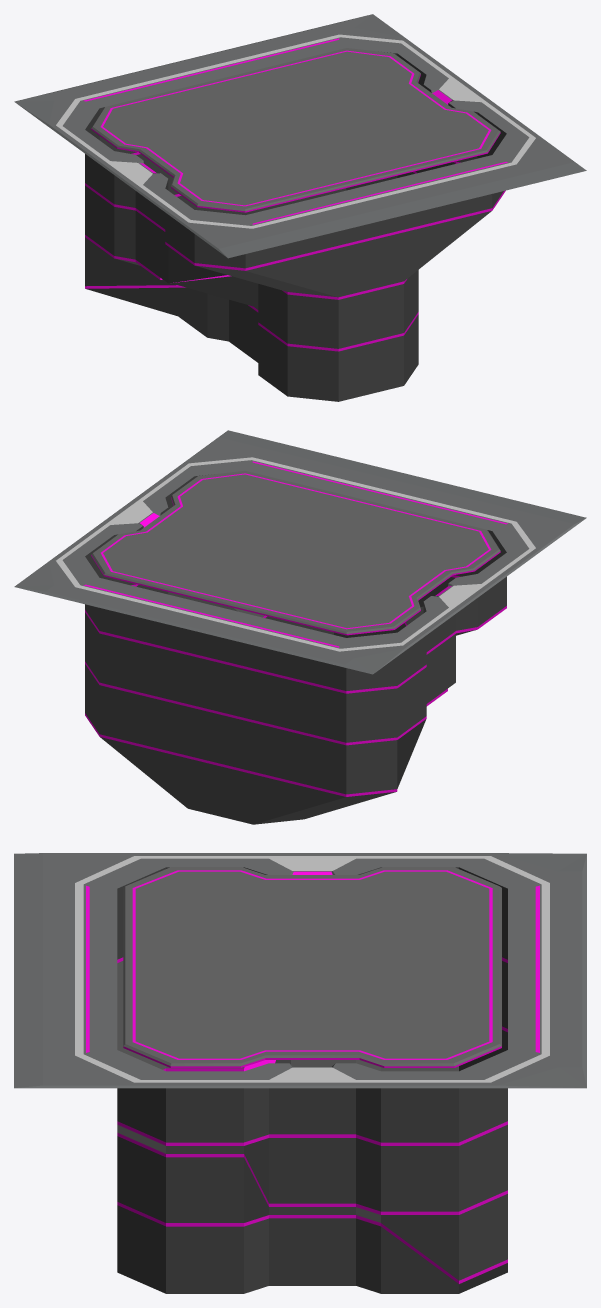
Rendered from Lower_Plaza_Lift.fbx.
The picture shows the model from 3 angles, top to bottom: view 1: azimuth 30°, elevation 25°; view 2: azimuth 150°, elevation 25°; view 3: azimuth 270°, elevation 25°; orthographic projection. The views are drawn at different scales.
Parts seen in each view (by area): view 1: Plaza_Lift; view 2: Plaza_Lift; view 3: Plaza_Lift.
Part boxes in pixels (bbox=[...]): Plaza_Lift: bbox=[14, 14, 586, 401]; Plaza_Lift: bbox=[14, 430, 586, 824]; Plaza_Lift: bbox=[14, 853, 586, 1293].
Size of the model in its own units: 24.26 by 13.73 by 25.06.
